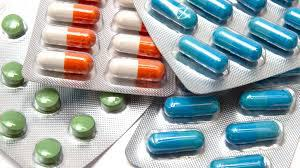capsule: (177, 33, 228, 76), (212, 25, 262, 64), (248, 17, 297, 52), (106, 56, 167, 84), (40, 22, 97, 51), (35, 48, 93, 76), (147, 1, 197, 32), (110, 31, 163, 58), (147, 130, 204, 155), (225, 121, 281, 146), (241, 88, 294, 114), (46, 1, 101, 25), (166, 95, 219, 119), (190, 1, 234, 24), (115, 9, 153, 30), (211, 156, 265, 168), (233, 1, 266, 13), (284, 7, 300, 25)
tablet: (33, 136, 63, 164), (1, 109, 27, 140), (33, 86, 62, 113), (98, 89, 126, 112), (2, 61, 25, 89), (71, 114, 96, 136), (2, 14, 25, 37)
